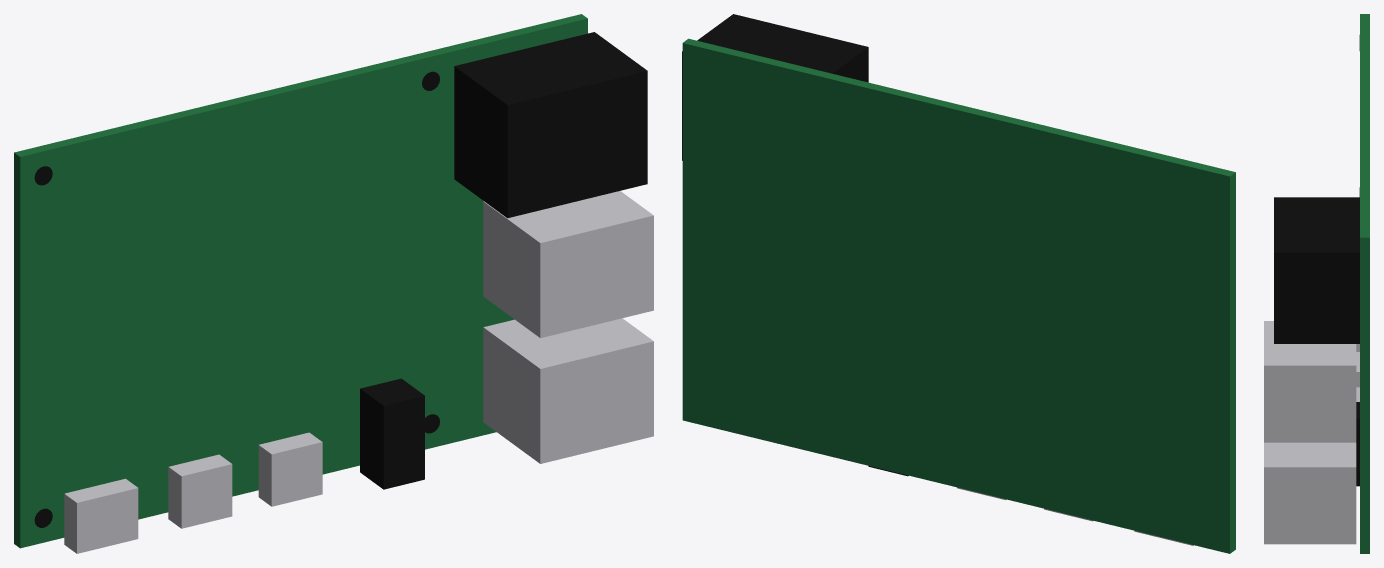
File: mod-pi.glb
3 renders of one model, left to right at view 1: azimuth 30°, elevation 25°; view 2: azimuth 150°, elevation 25°; view 3: azimuth 270°, elevation 25°, orthographic. The views are drawn at different scales.
Parts seen in each view (by area): view 1: PCB-PI, MET-PORT, PORT; view 2: PCB-PI, PORT; view 3: MET-PORT, PORT, PCB-PI.
Part boxes in pixels (box(x1,y1,x2,y2)): PCB-PI: box(14, 14, 587, 548); MET-PORT: box(64, 191, 653, 553); PORT: box(360, 32, 647, 489); PCB-PI: box(682, 38, 1235, 553); PORT: box(682, 14, 908, 476); MET-PORT: box(1264, 321, 1359, 544); PORT: box(1274, 197, 1359, 486); PCB-PI: box(1360, 14, 1369, 553).
Size of the model in its own units: 86 by 57 by 17.
